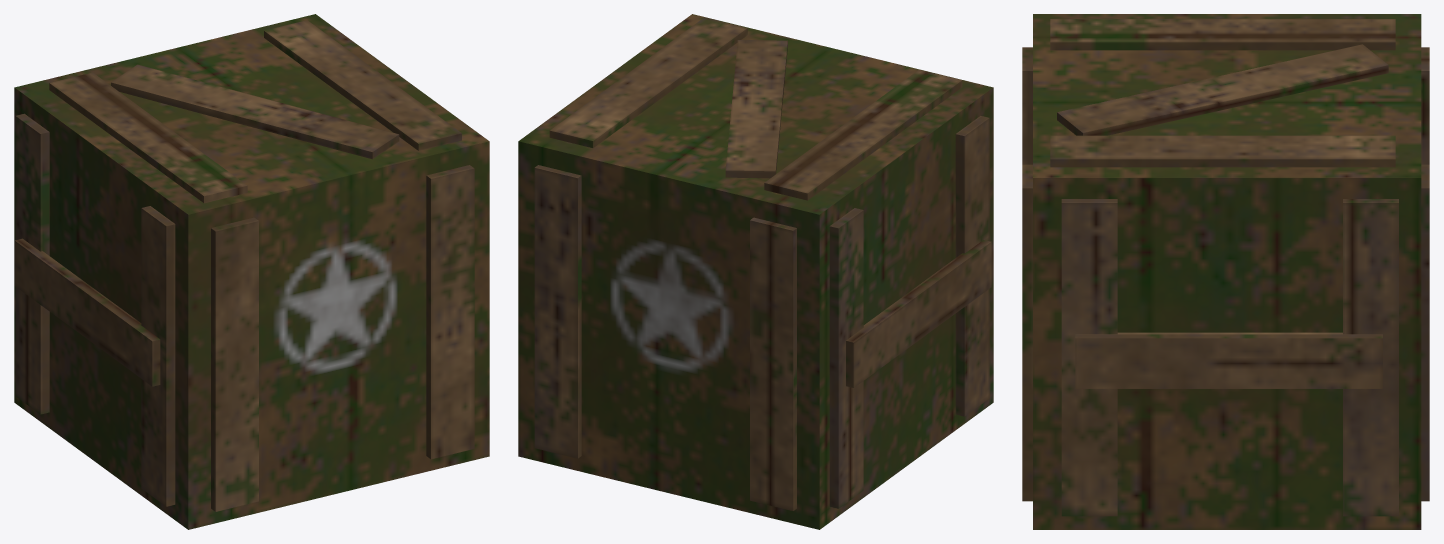
File: SM_ChairBox.fbx
3 renders of one model, left to right at view 1: azimuth 30°, elevation 25°; view 2: azimuth 150°, elevation 25°; view 3: azimuth 270°, elevation 25°, orthographic. The views are drawn at different scales.
Visible parts, largest first — view 1: SM_ChairBox; view 2: SM_ChairBox; view 3: SM_ChairBox.
Part boxes in pixels (x1,y1,x2,y2): SM_ChairBox: (14, 14, 489, 529); SM_ChairBox: (518, 14, 993, 529); SM_ChairBox: (1022, 14, 1429, 529).
Bounding box in the file's own units: 14.22 × 13.15 × 13.5.
Materials: 1 (1 with a texture image).
